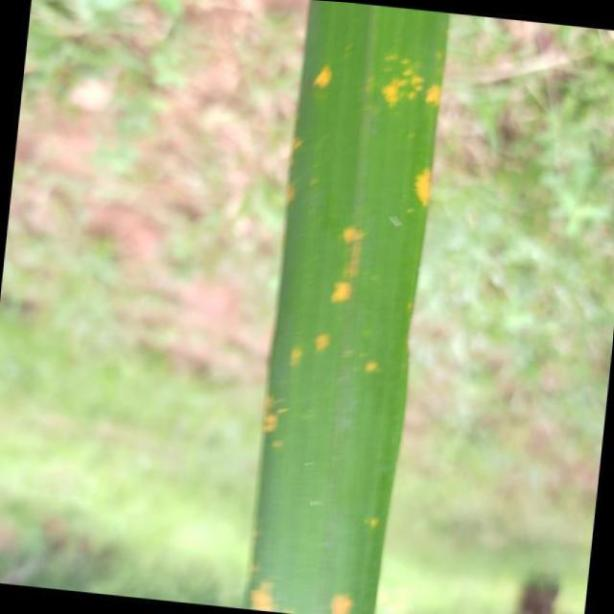Kalium: (249, 0, 448, 614)
